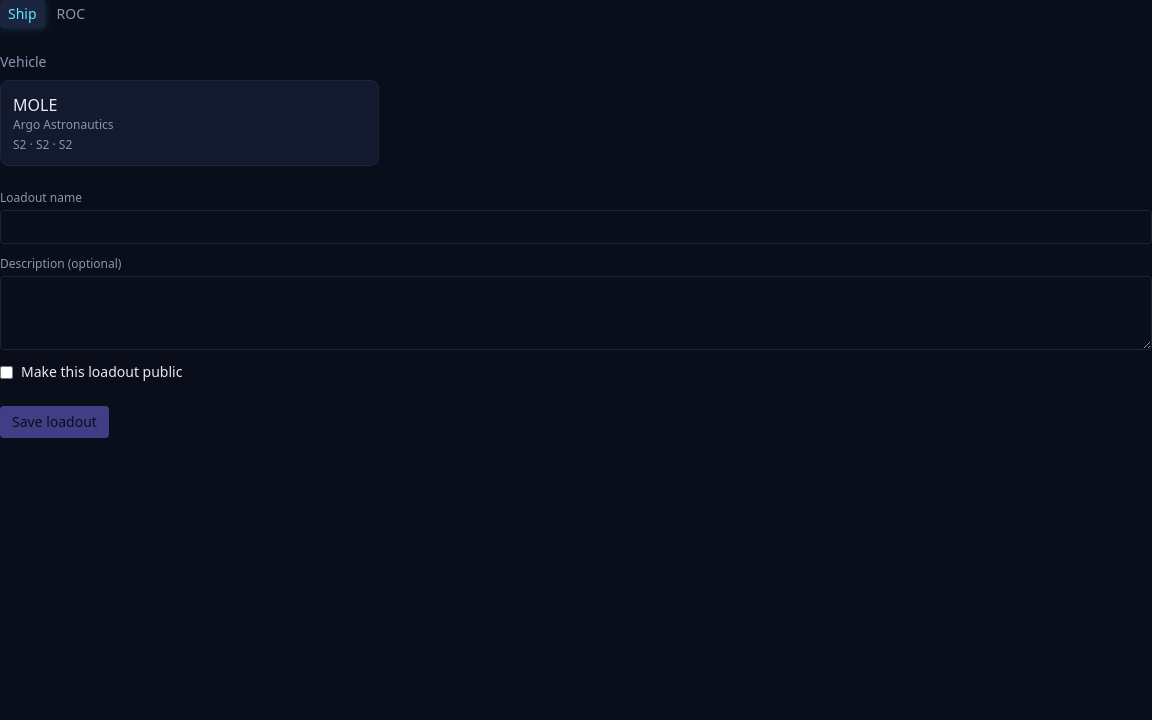
LoadoutBuilder › shows one laser select per hardpoint after picking a vehicle
Click the button with aria-label "MOLE — Argo Astronautics".
click(35, 105)  # box [0,80,379,166]
(page scrolled)
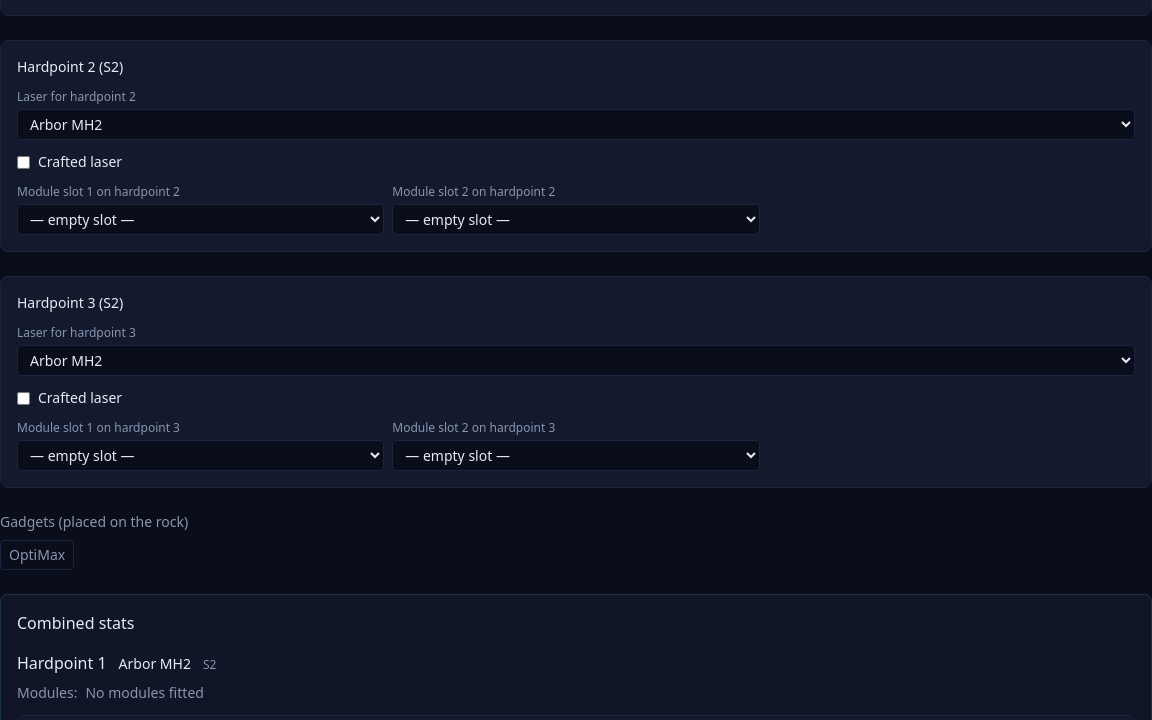
Check: the dropdown labelled "Laser for hardpoint 3" is shown, box [17,345,1135,376]
